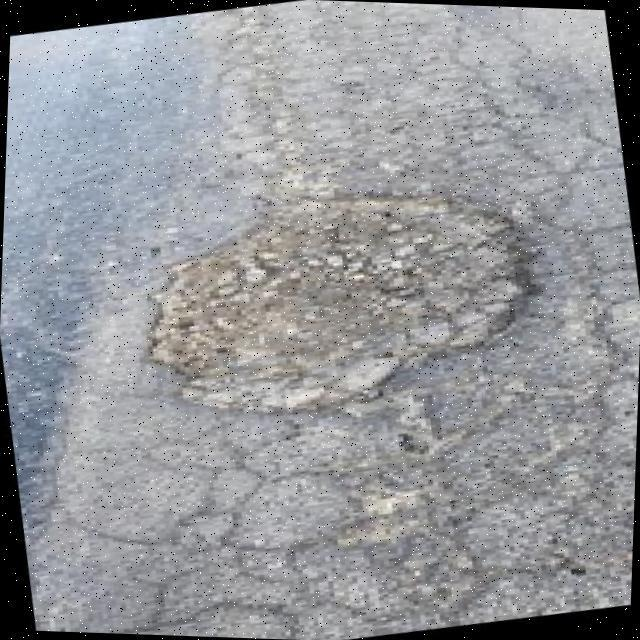Pothole: (151, 196, 532, 414)
